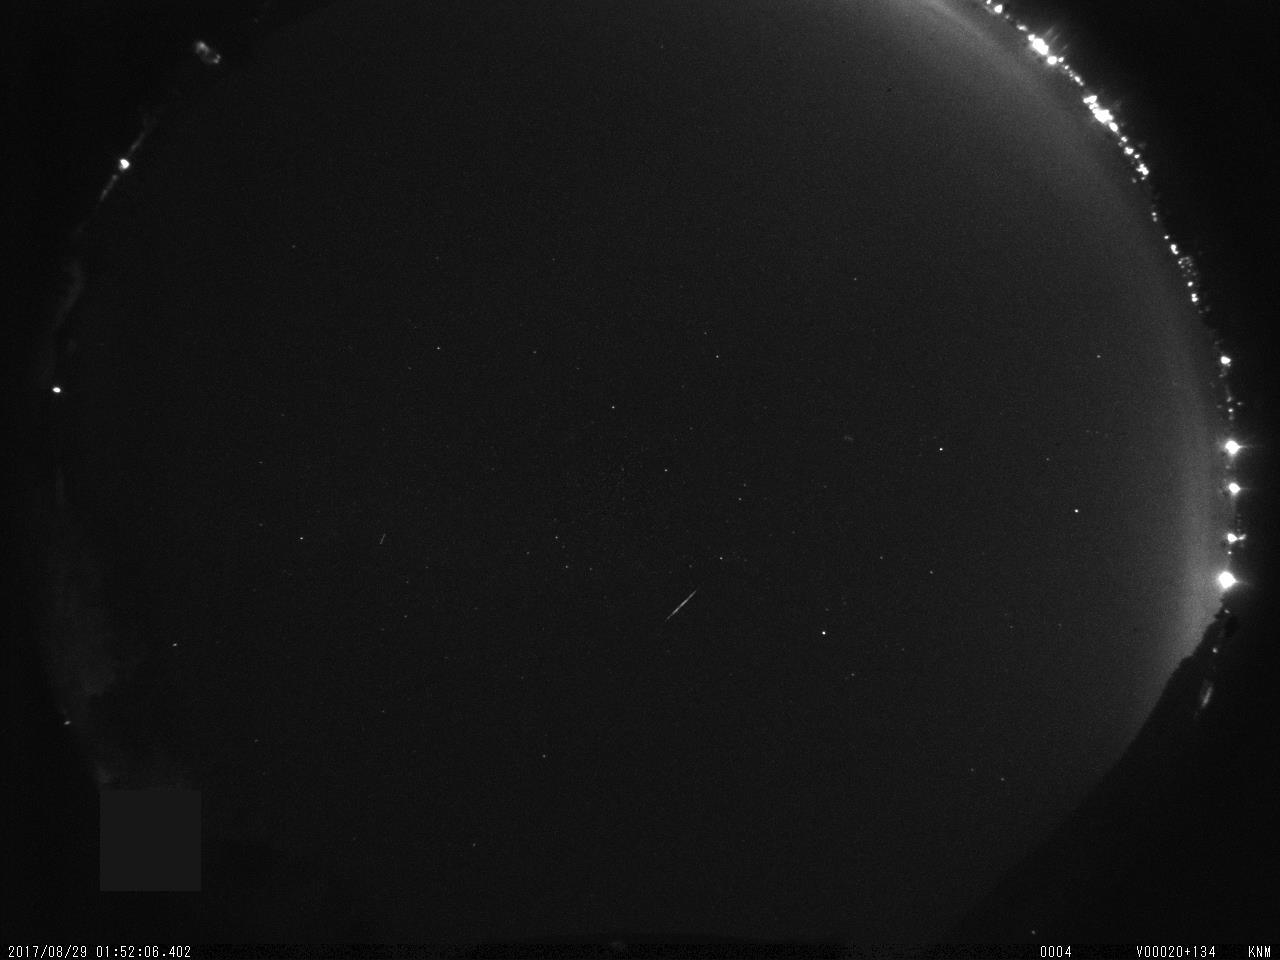meteor: (654, 575, 712, 635)
